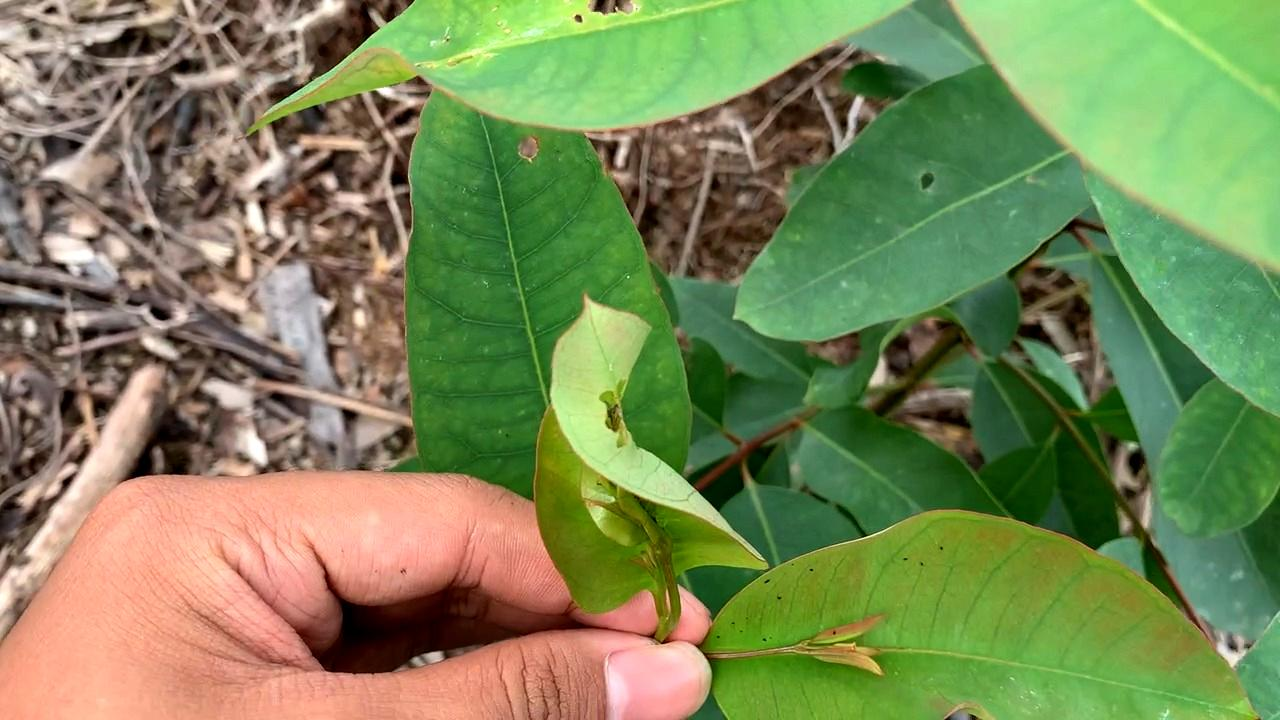Leaf Roller - Leaf: (522, 282, 768, 608)
